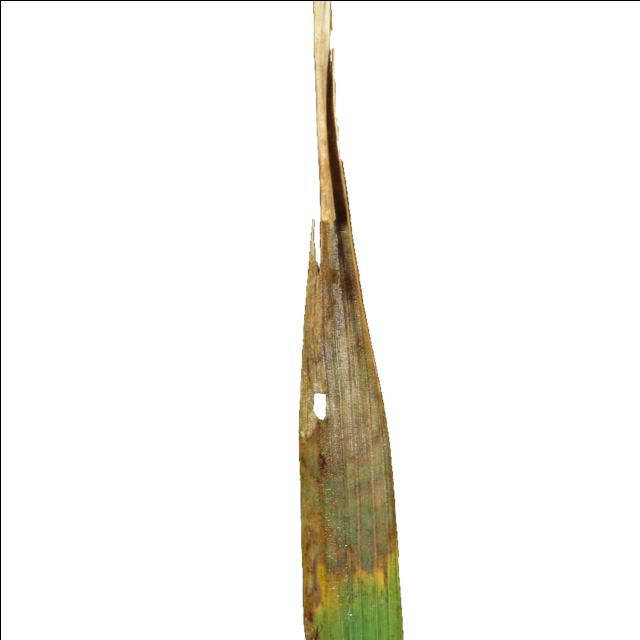Leaf scald: (280, 0, 522, 640)
